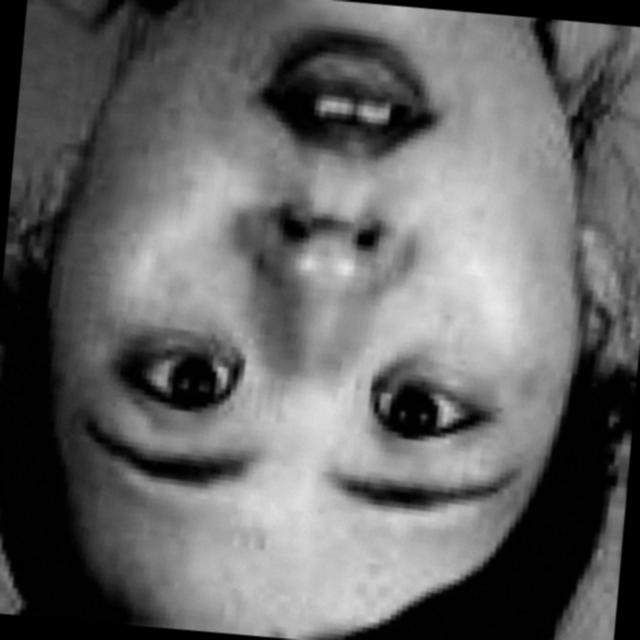fear: (63, 0, 586, 587)
